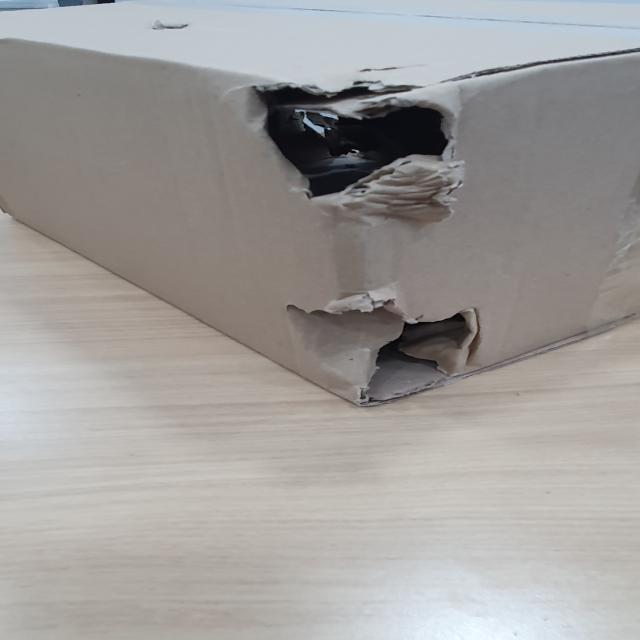hole: (230, 76, 477, 210), (288, 295, 481, 399)
